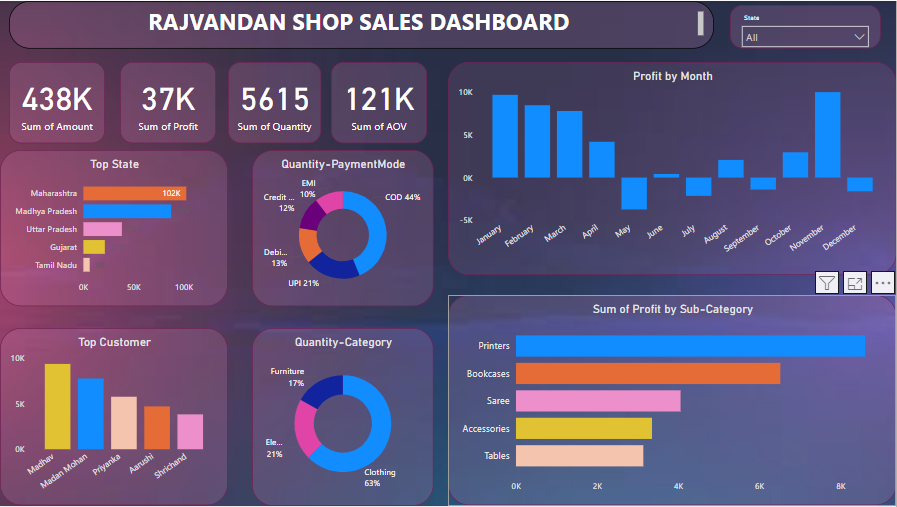

What the dashboard file says about the page in this screenshot:
{"tool":"powerbi","page":{"name":"Page 1","canvas":[1280,720],"ordinal":0},"visuals":[{"type":"textbox","box":[14.2,0,1006.3,68],"z":0},{"type":"columnChart","title":"Profit by Month","fields":{"Y":["Details.Profit"],"Category":["Orders.Order Date.Variation.Date Hierarchy.Month"]},"box":[640,87.6,640,303.9],"z":1},{"type":"barChart","fields":{"Category":["Details.Sub-Category"],"Y":["Details.Profit"]},"box":[640,420.1,640,300.3],"z":2},{"type":"donutChart","title":"Quantity-Category","fields":{"Category":["Details.Category"],"Y":["Details.Quantity"]},"box":[361.1,466.6,259.2,253.9],"z":4},{"type":"donutChart","title":"Quantity-PaymentMode","fields":{"Y":["Details.Quantity"],"Category":["Details.PaymentMode"]},"box":[361.1,212.7,259.2,223.5],"z":5},{"type":"card","fields":{"Values":["Details.Amount"]},"box":[14.3,87,137,115.6],"z":6},{"type":"card","fields":{"Values":["Details.Profit"]},"box":[172.7,87,137,115.6],"z":7},{"type":"card","fields":{"Values":["Details.Quantity"]},"box":[326.8,87,132.7,115.6],"z":8},{"type":"card","fields":{"Values":["Details.AOV"]},"box":[473.8,87,137,115.6],"z":9},{"type":"barChart","title":"Top State","fields":{"Category":["Orders.State"],"Y":["Details.Amount"]},"box":[1.8,212.7,325.4,223.5],"z":10},{"type":"columnChart","title":" Top Customer","fields":{"Category":["Orders.CustomerName"],"Y":["Details.Amount"]},"box":[2,467,325,253],"z":11},{"type":"slicer","fields":{"Values":["Orders.State"]},"box":[1043.1,5.7,215.4,62.4],"z":13}]}

Visuals, with their boxes in screenshot pixels (x1, y1, x2, y2), scaled from the page's 1280x720 canvas onto the 897x507 screenshot:
textbox: locate(10, 0, 715, 48)
"Profit by Month" columnChart: locate(448, 62, 896, 276)
barChart - Details.Sub-Category x Details.Profit: locate(448, 296, 896, 506)
"Quantity-Category" donutChart: locate(253, 329, 435, 506)
"Quantity-PaymentMode" donutChart: locate(253, 150, 435, 307)
card - Details.Amount: locate(10, 61, 106, 143)
card - Details.Profit: locate(121, 61, 217, 143)
card - Details.Quantity: locate(229, 61, 322, 143)
card - Details.AOV: locate(332, 61, 428, 143)
"Top State" barChart: locate(1, 150, 229, 307)
" Top Customer" columnChart: locate(1, 329, 229, 506)
slicer - Orders.State: locate(731, 4, 882, 48)
